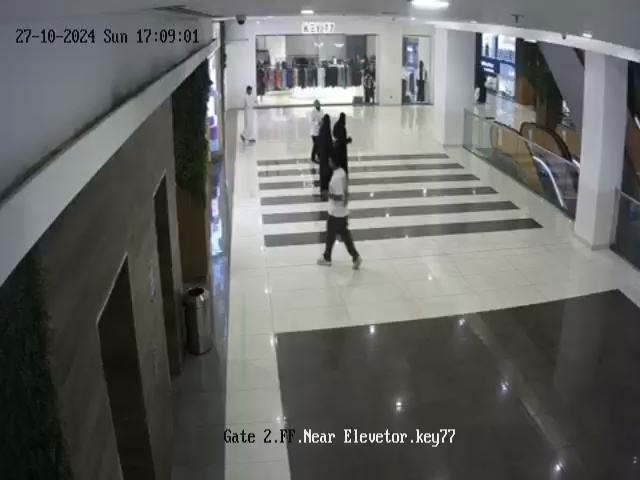female: (333, 105, 357, 180), (317, 113, 333, 201)
male: (317, 150, 363, 270), (234, 76, 264, 155), (309, 99, 324, 164), (362, 66, 375, 104)
